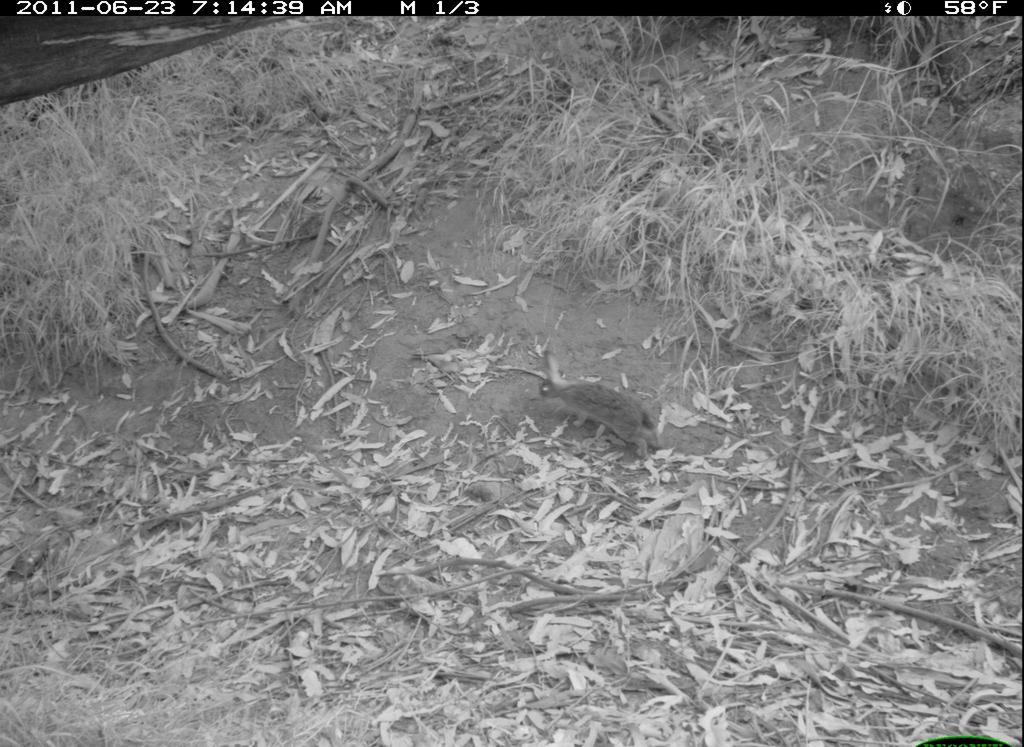rabbit: (534, 346, 666, 464)
